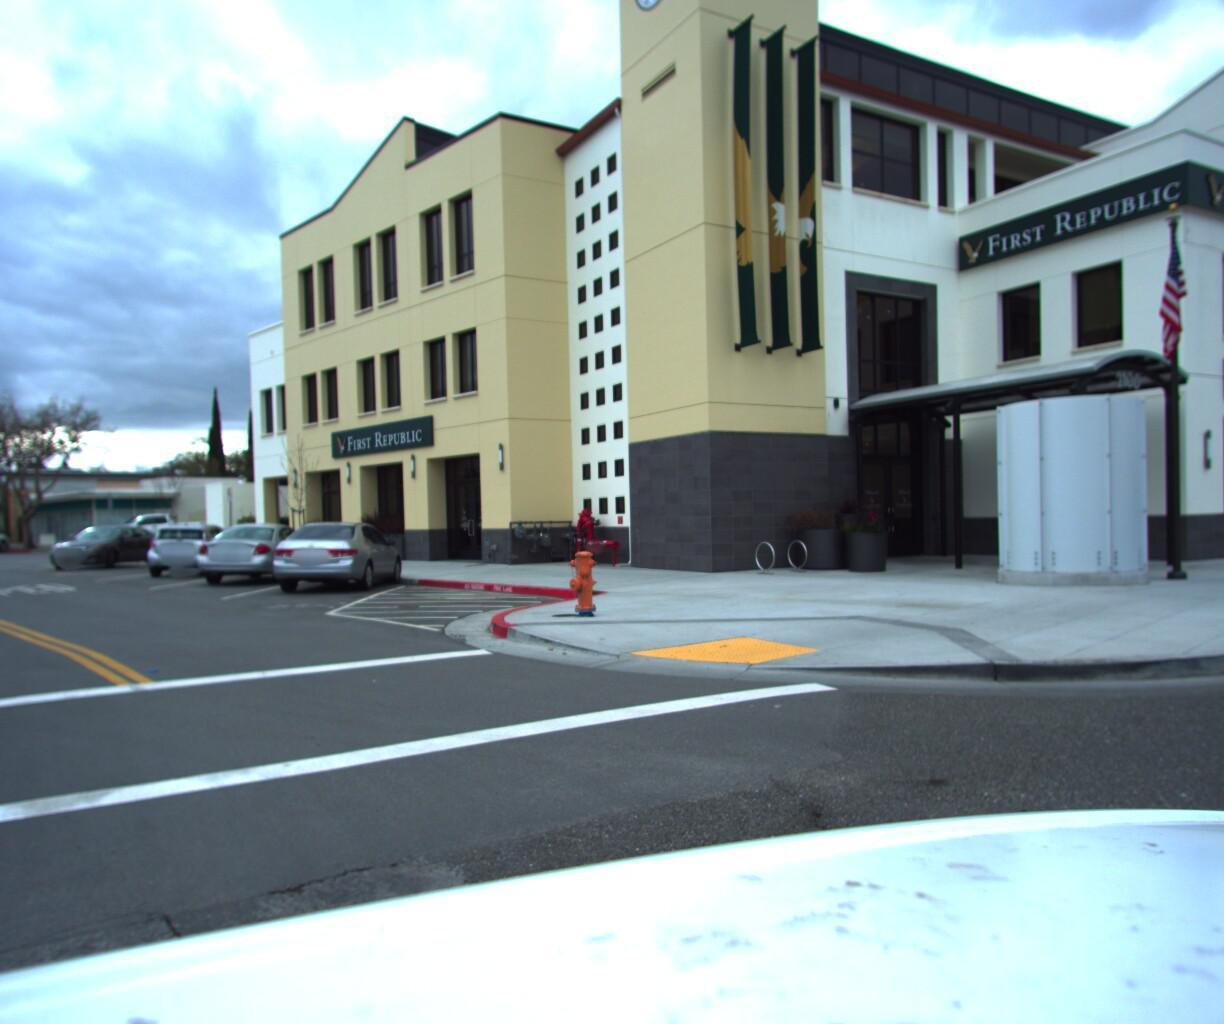car: (259, 509, 408, 592), (184, 510, 328, 582), (37, 514, 174, 565), (140, 513, 251, 573), (95, 504, 216, 542)
